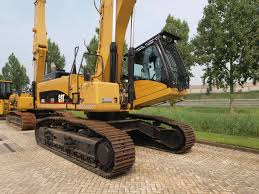excavator: (27, 0, 195, 180)
